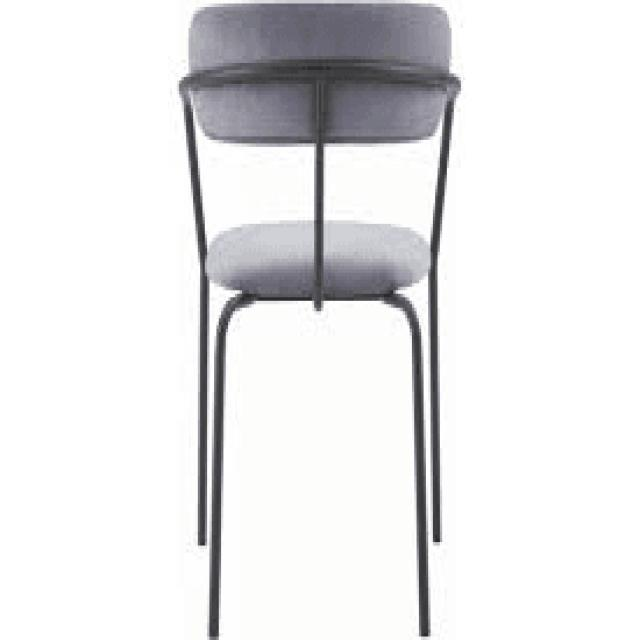chair: (174, 0, 466, 640), (186, 3, 457, 297)
